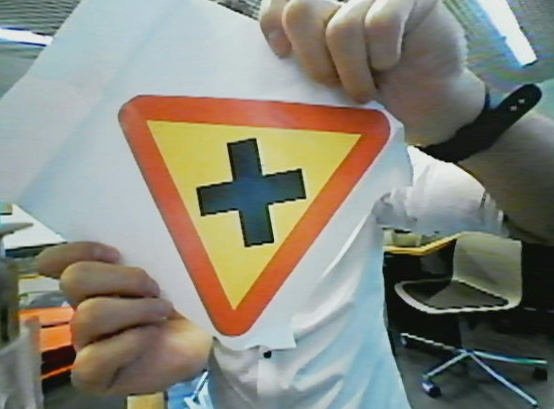junction: (107, 81, 395, 347)
